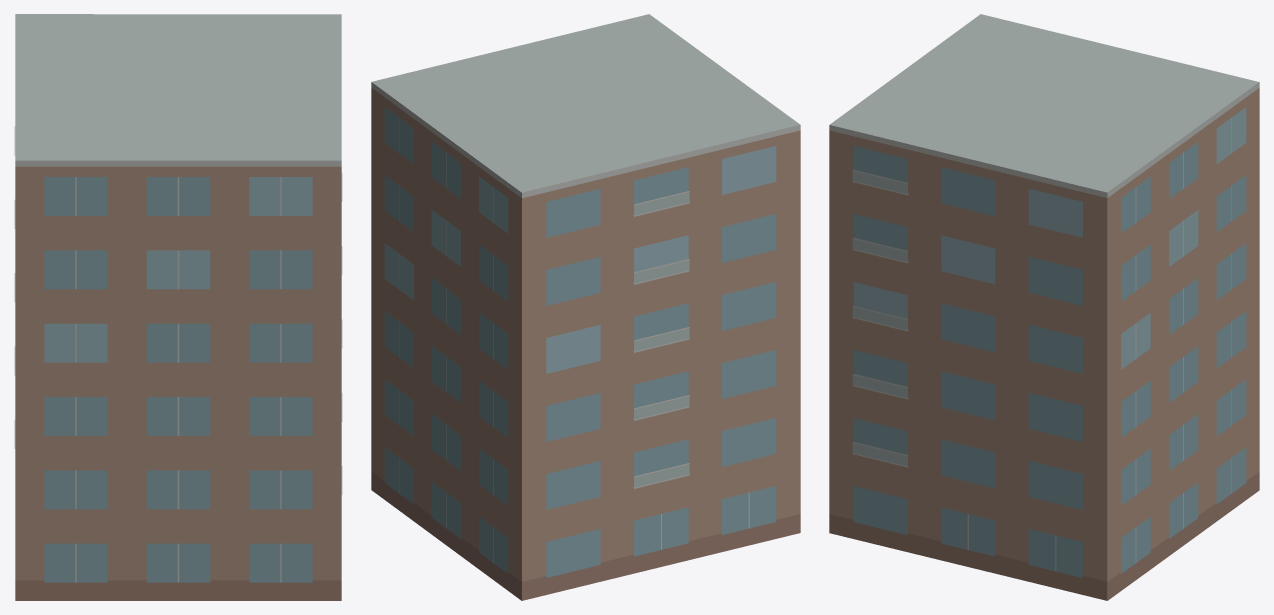
File: survey-upis-32965992.glb
The picture shows the model from 3 angles, left to right: view 1: azimuth 30°, elevation 25°; view 2: azimuth 150°, elevation 25°; view 3: azimuth 270°, elevation 25°; orthographic projection. The views are drawn at different scales.
Visible parts, largest first — view 1: survey-upis-32965992.tmp; view 2: survey-upis-32965992.tmp; view 3: survey-upis-32965992.tmp.
Part boxes in pixels (x1,y1,x2,y2): survey-upis-32965992.tmp: [14, 14, 342, 600]; survey-upis-32965992.tmp: [371, 14, 800, 600]; survey-upis-32965992.tmp: [829, 14, 1259, 600].
Bounding box in the file's own units: 16.81 × 17.9 × 17.1.
